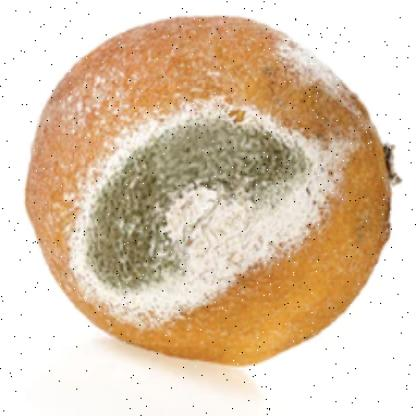rotten: (25, 14, 393, 368)
